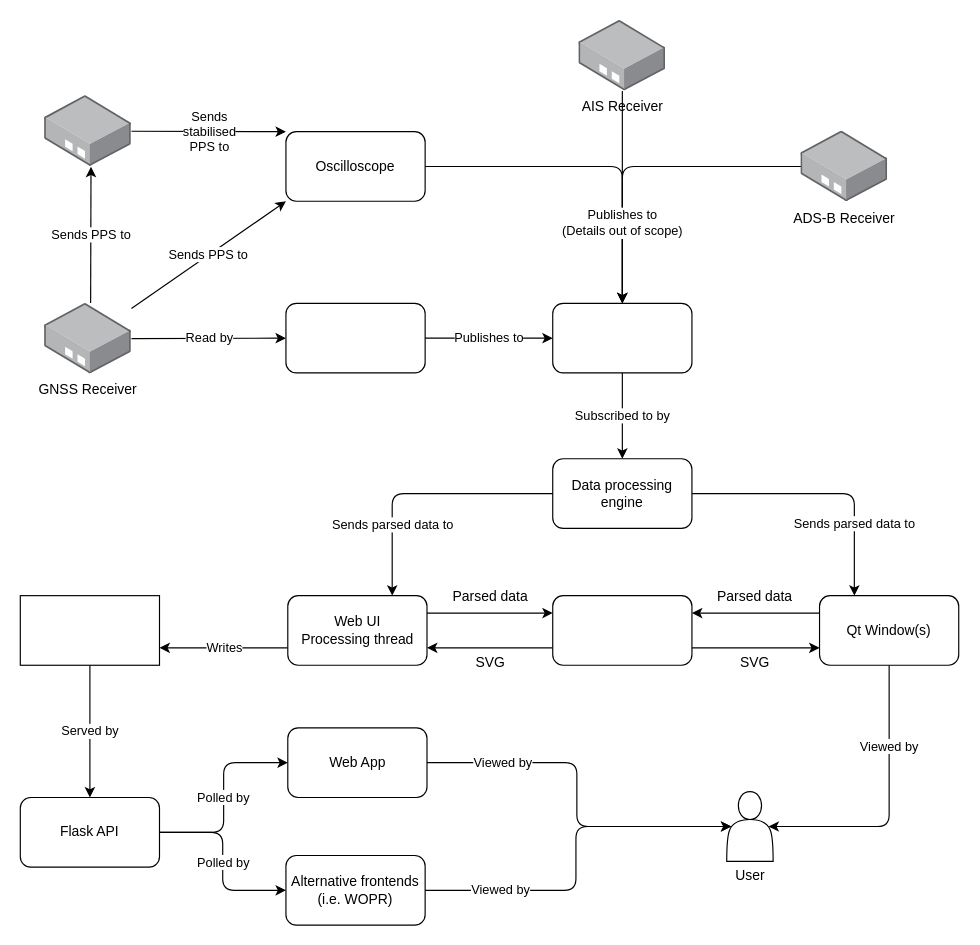
The diagram is 980 pixels wide and 945 high, and some of its shapes have lost their labels. Each missing label, with the centre of its shape:
"Atomic clock (Precision time signal)" belongs at [87,130].
"Generated maps and satellite data files" belongs at [89,629].
"GNSS Publisher" belongs at [355,337].
"MQTT Broker" belongs at [622,337].
"SVG rendering logic" belongs at [622,629].
